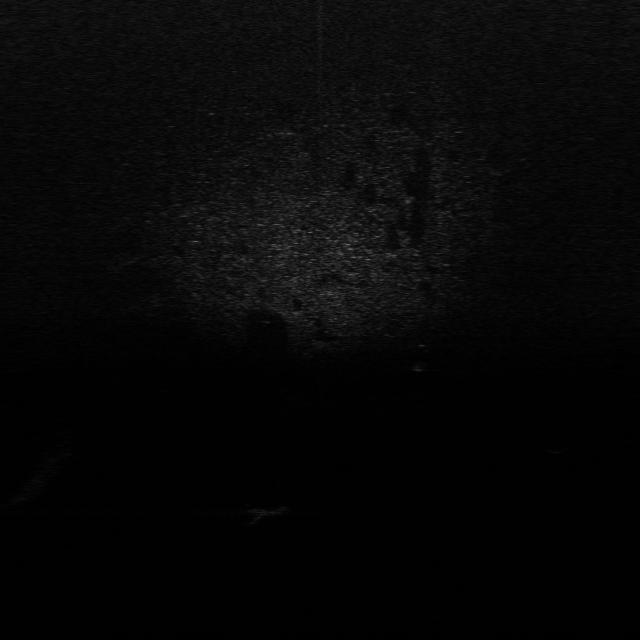square cage: (244, 500, 290, 520)
tyre: (408, 344, 437, 372)
